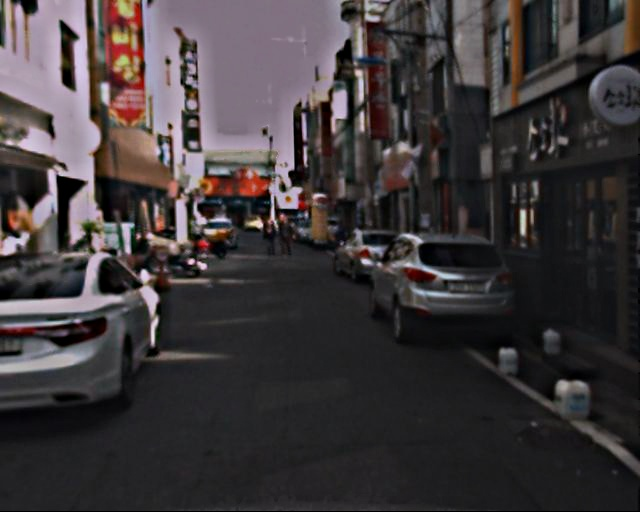person: (331, 214, 352, 268), (279, 214, 299, 265), (262, 214, 282, 260)
